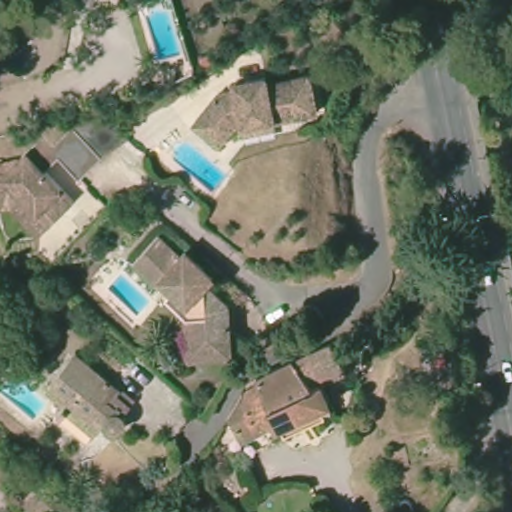pool: (174, 140, 225, 194), (106, 268, 154, 322), (144, 5, 186, 60), (1, 369, 45, 421)
